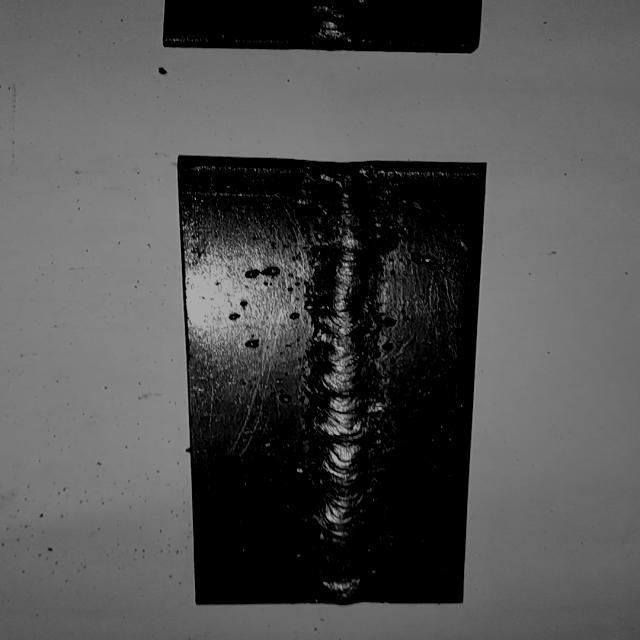Defect: (304, 0, 366, 46)
Good Weld: (315, 168, 372, 602)
